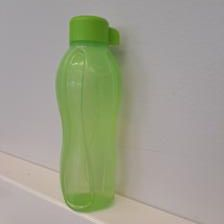bottle: (53, 14, 124, 212)
